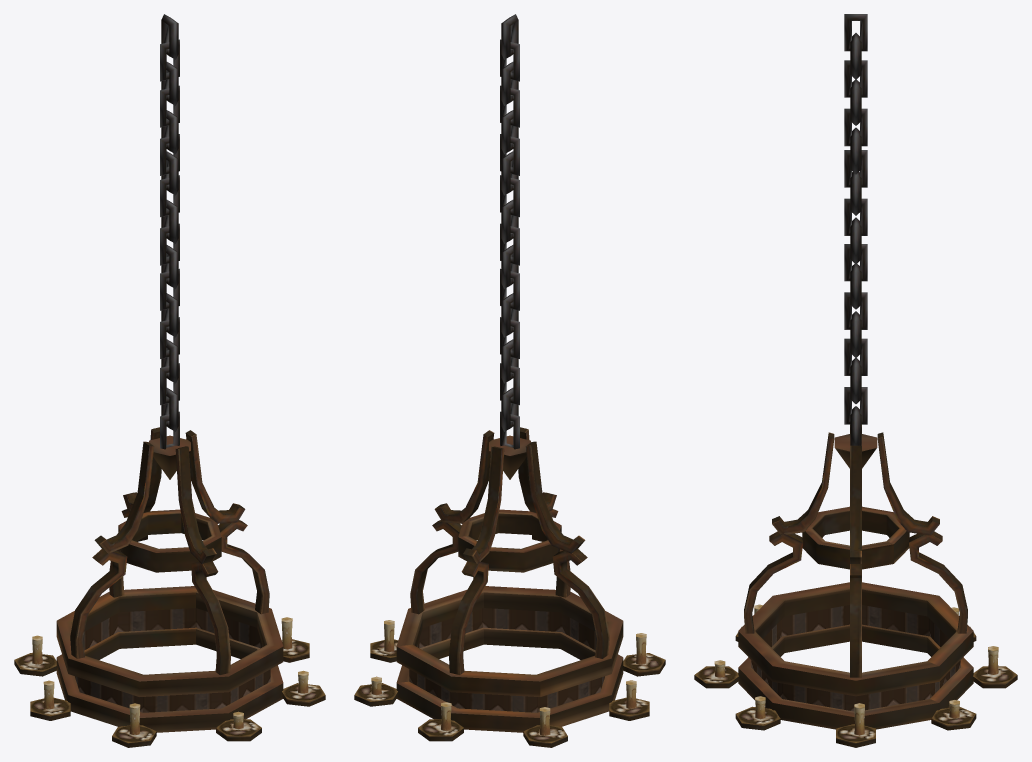
File: Battle06_Light_04.FBX
3 renders of one model, left to right at view 1: azimuth 30°, elevation 25°; view 2: azimuth 150°, elevation 25°; view 3: azimuth 270°, elevation 25°, orthographic.
Parts seen in each view (by area): view 1: Battle06_Light_04; view 2: Battle06_Light_04; view 3: Battle06_Light_04.
Part boxes in pixels (left/top/right/bottom): Battle06_Light_04: left=14, top=14, right=325, bottom=747; Battle06_Light_04: left=354, top=14, right=665, bottom=747; Battle06_Light_04: left=694, top=14, right=1017, bottom=747.
Bounding box in the file's own units: 4.58 × 10.46 × 4.58.
